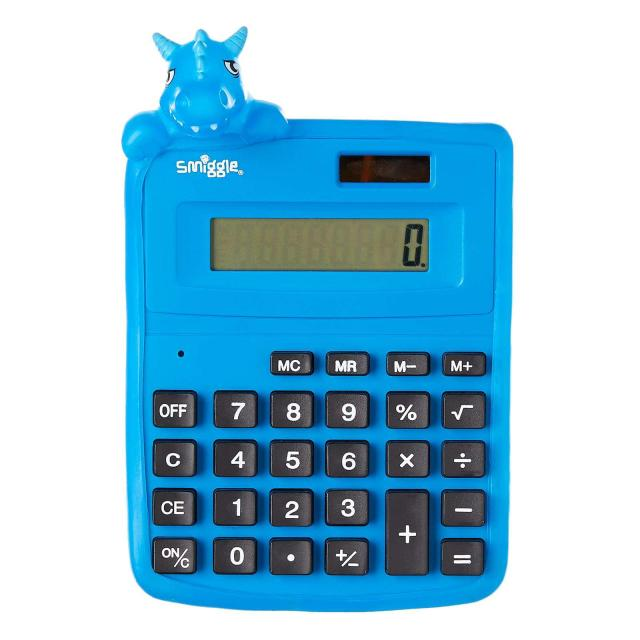Calculator: (44, 2, 614, 640)
